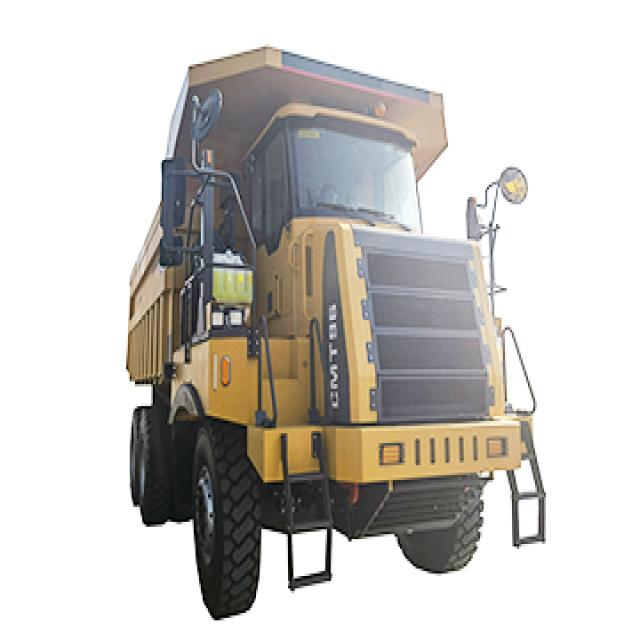dump_truck: (84, 22, 555, 626)
